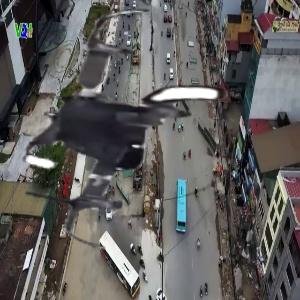drone: (3, 4, 264, 265)
